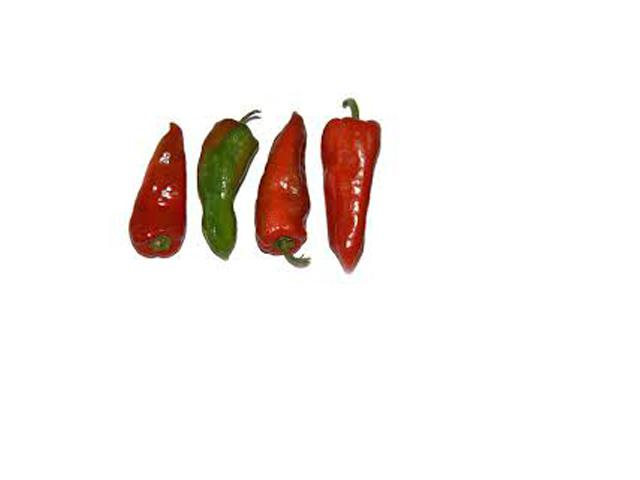bell_pepper: (112, 108, 190, 261)
